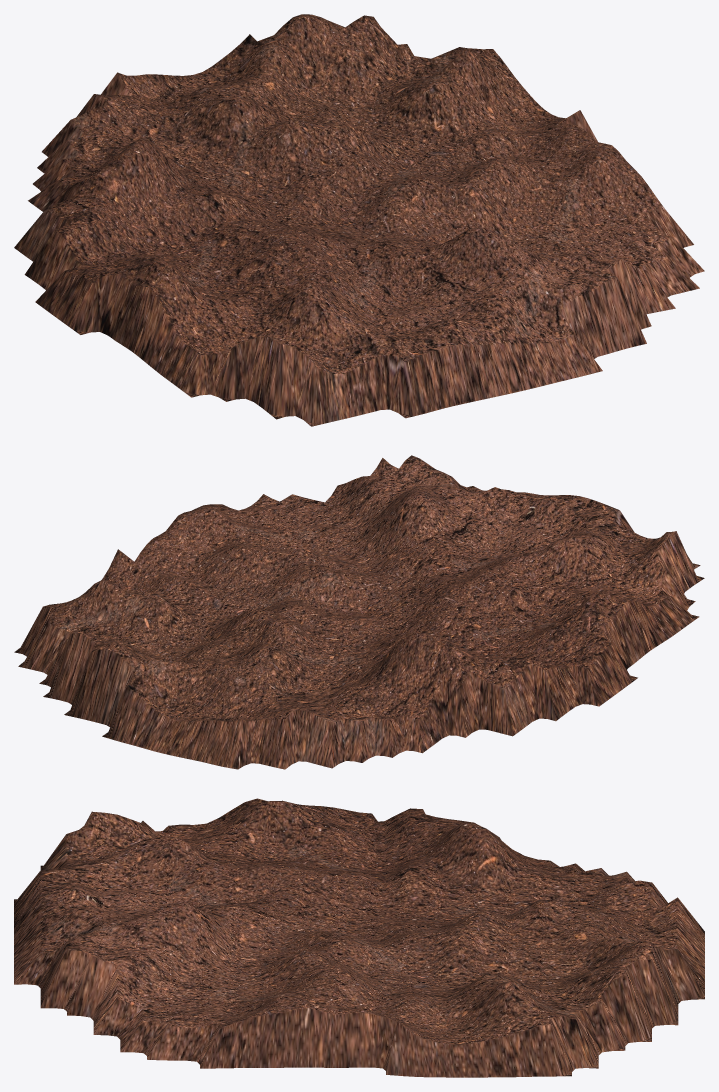
Rendered from SM_DirtPile.fbx.
3 views of the same model, one above another, from view 1: azimuth 30°, elevation 25°; view 2: azimuth 150°, elevation 25°; view 3: azimuth 270°, elevation 25° (orthographic). The views are drawn at different scales.
Visible parts, largest first — view 1: SM_DirtPile; view 2: SM_DirtPile; view 3: SM_DirtPile.
Part boxes in pixels (box(x1,y1,x2,y2)): SM_DirtPile: box(14, 14, 704, 426); SM_DirtPile: box(14, 455, 704, 769); SM_DirtPile: box(14, 798, 704, 1077).
Bounding box in the file's own units: 6.05 × 0.8541 × 7.21.
Materials: 1 (1 with a texture image).
